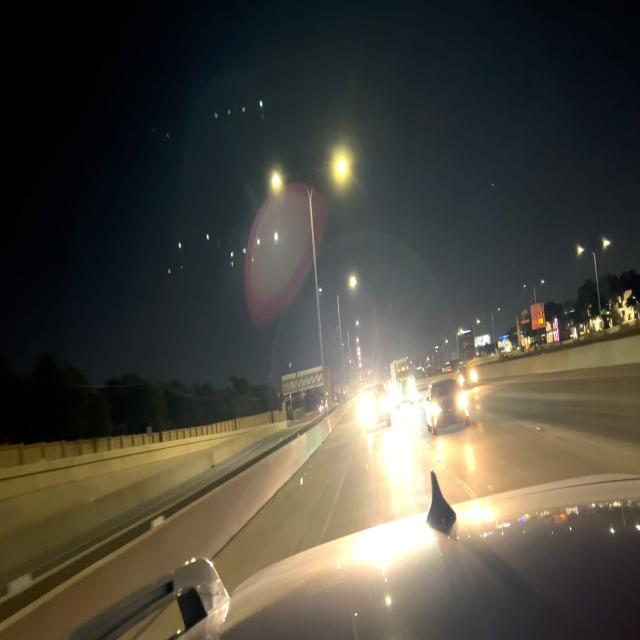back-of-sign: (281, 365, 324, 399)
